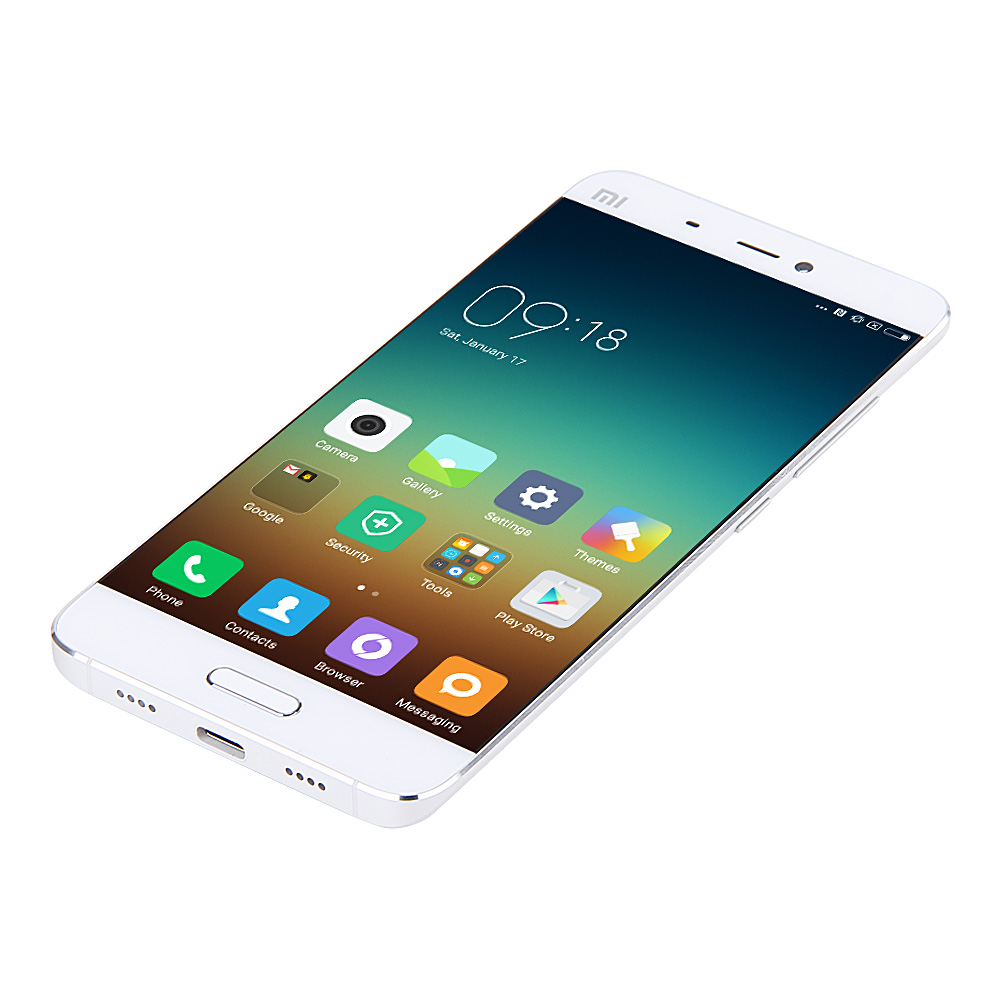smartphone: (51, 169, 951, 830)
